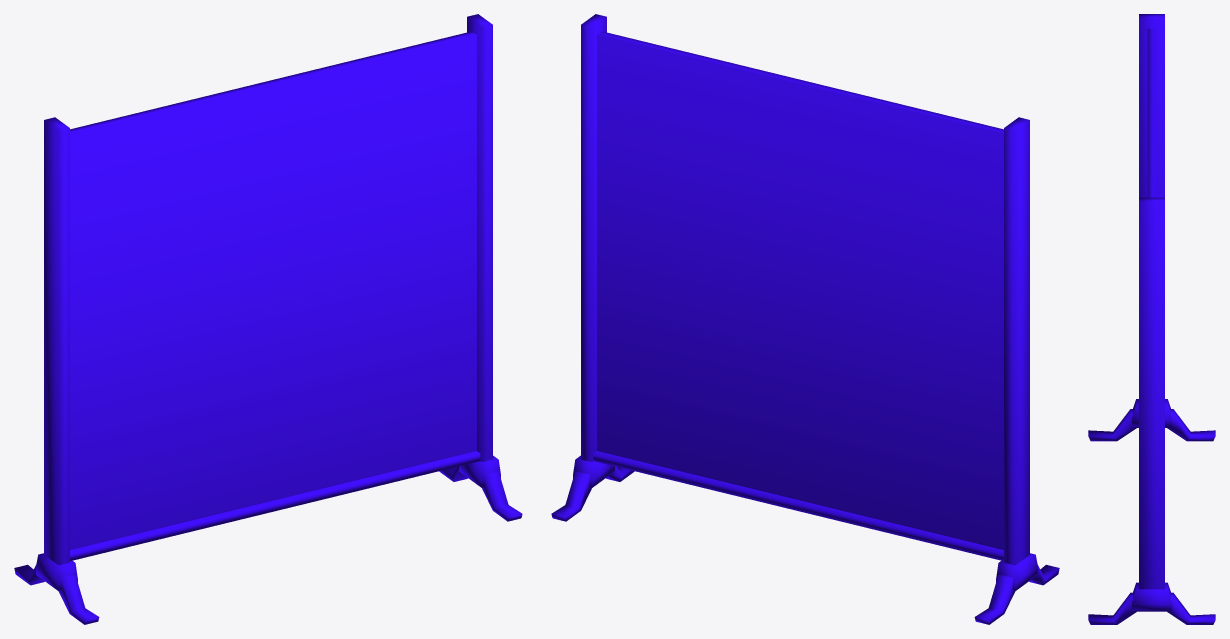
Rendered from office_pack_partitionDivider_small_1_meshCollider.fbx.
The picture shows the model from 3 angles, left to right: view 1: azimuth 30°, elevation 25°; view 2: azimuth 150°, elevation 25°; view 3: azimuth 270°, elevation 25°; orthographic projection. The views are drawn at different scales.
Parts seen in each view (by area): view 1: office_pack_partitionDivider_small_1_meshCollider; view 2: office_pack_partitionDivider_small_1_meshCollider; view 3: office_pack_partitionDivider_small_1_meshCollider.
Boxes of the visible parts, x1,y1,x2,y2 form: office_pack_partitionDivider_small_1_meshCollider: [14, 14, 522, 624]; office_pack_partitionDivider_small_1_meshCollider: [551, 14, 1059, 624]; office_pack_partitionDivider_small_1_meshCollider: [1088, 14, 1215, 624].
Bounding box in the file's own units: 107 × 110 × 30.08.
